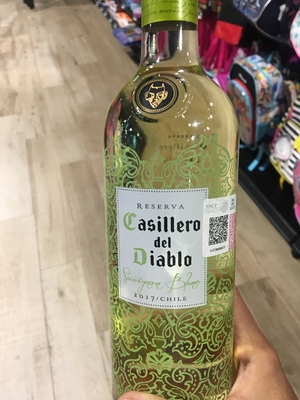casillero del diablo sauvignon blanc: (101, 13, 247, 398)
